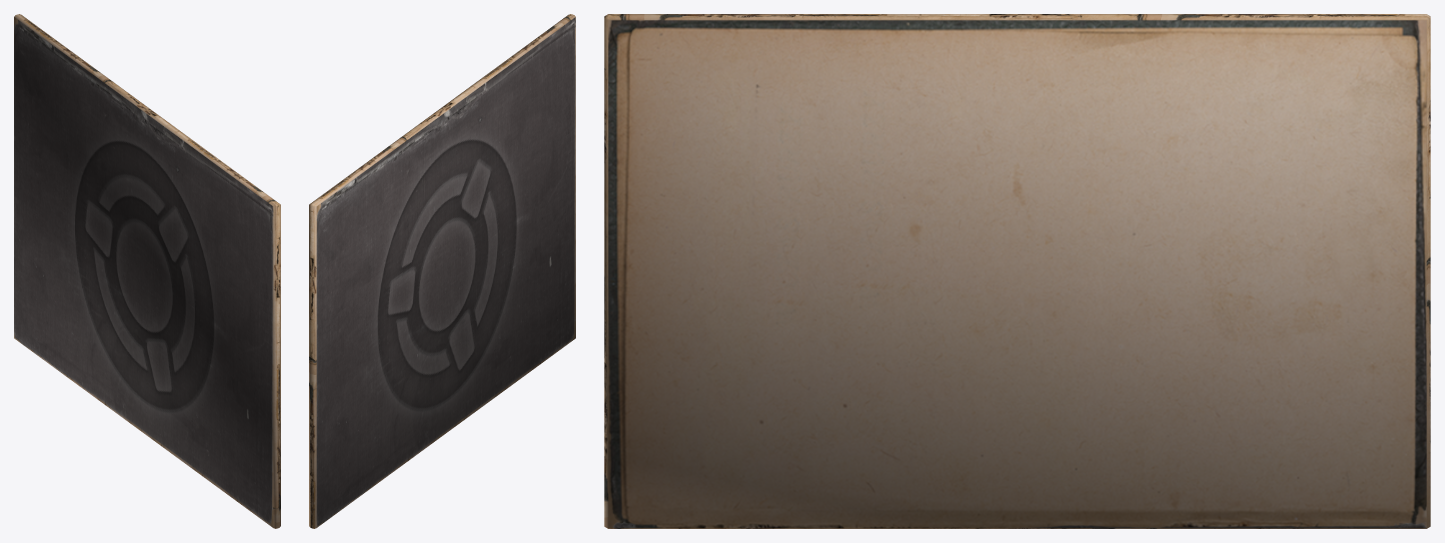
Rendered from id_card.fbx.
3 views of the same model, side by side, from view 1: azimuth 30°, elevation 25°; view 2: azimuth 150°, elevation 25°; view 3: azimuth 270°, elevation 25° (orthographic). The views are drawn at different scales.
Parts seen in each view (by area): view 1: Plane; view 2: Plane; view 3: Plane.
Boxes of the visible parts, left/top/right/bottom form: Plane: left=14, top=14, right=280, bottom=528; Plane: left=309, top=14, right=575, bottom=528; Plane: left=604, top=14, right=1430, bottom=528.
Bounding box in the file's own units: 167 × 2.82 × 114.
Materials: 1 (1 with a texture image).
